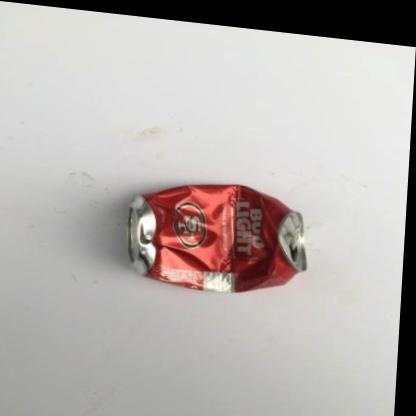trash: (128, 185, 306, 291)
